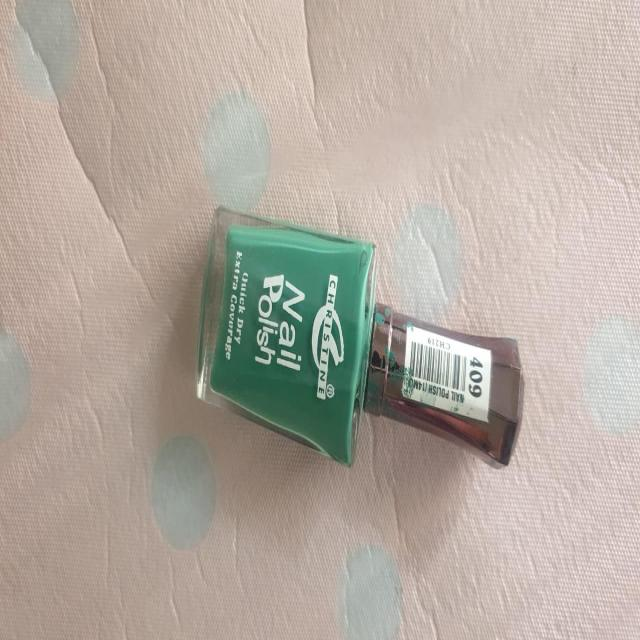nail polish: (193, 170, 538, 518)
